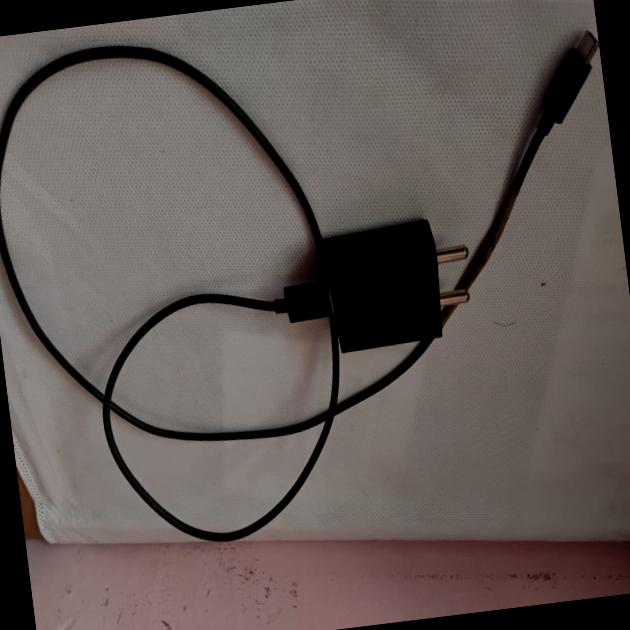mobliecharger: (0, 18, 565, 570)
